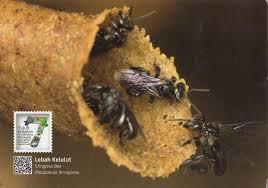Meliponula: (79, 77, 146, 150), (182, 114, 242, 180), (79, 5, 142, 58), (117, 55, 180, 107)
